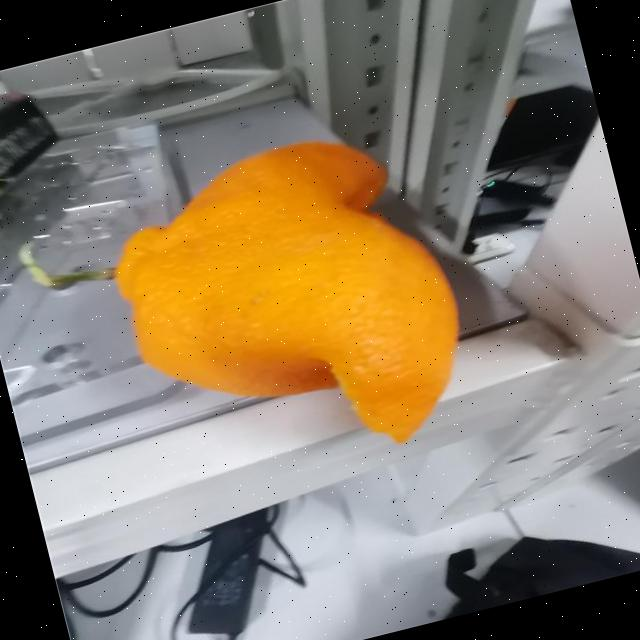orange-peel: (90, 110, 488, 500)
